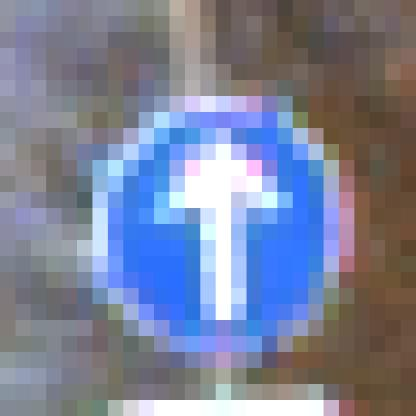AheadOnly: (78, 81, 325, 321)
